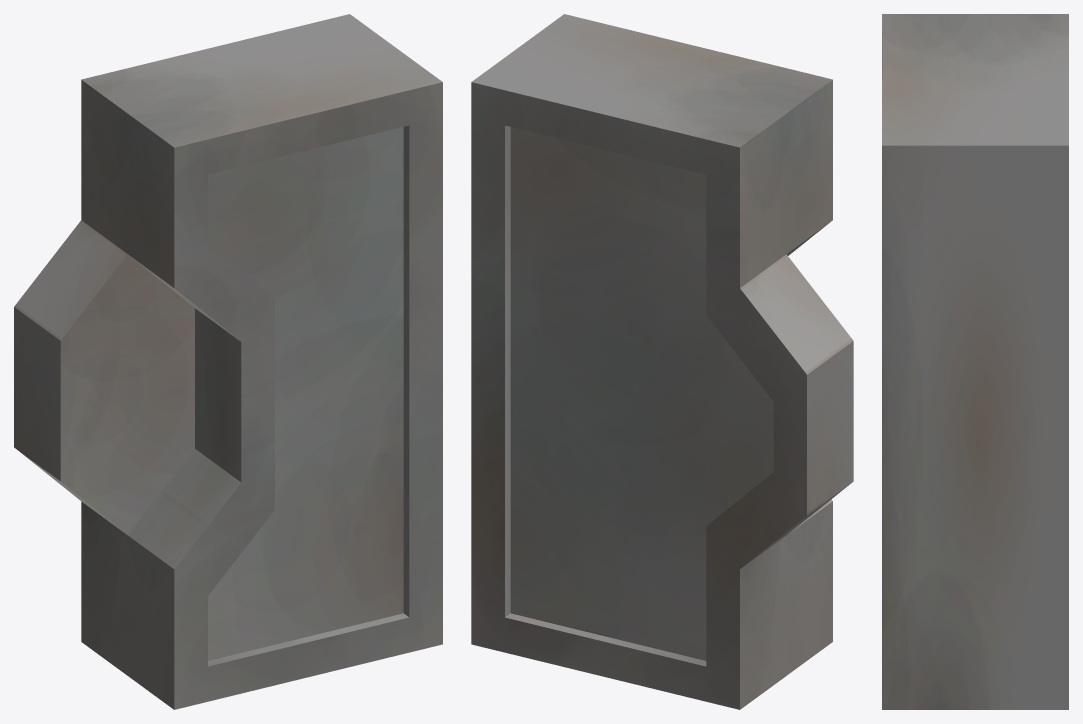
Rendered from door2tex.glb.
3 renders of one model, left to right at view 1: azimuth 30°, elevation 25°; view 2: azimuth 150°, elevation 25°; view 3: azimuth 270°, elevation 25°, orthographic.
Parts seen in each view (by area): view 1: Cube.002; view 2: Cube.002; view 3: Cube.002.
Boxes of the visible parts, x1=… form: Cube.002: x1=14, y1=14, x2=442, y2=709; Cube.002: x1=471, y1=14, x2=853, y2=709; Cube.002: x1=882, y1=14, x2=1068, y2=709.
Bounding box in the file's own units: 1.25 × 2 × 0.6.
Materials: 2 (2 with a texture image).
